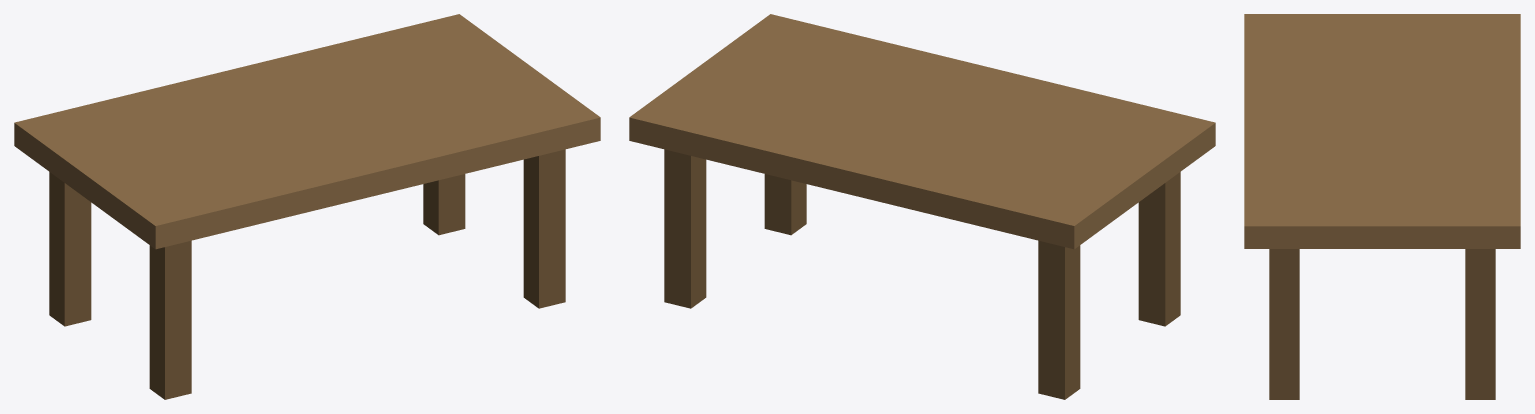
The model's file is teatable.glb.
3 views of the same model, side by side, from view 1: azimuth 30°, elevation 25°; view 2: azimuth 150°, elevation 25°; view 3: azimuth 270°, elevation 25° (orthographic). The views are drawn at different scales.
Parts seen in each view (by area): view 1: teatable; view 2: teatable; view 3: teatable.
Boxes of the visible parts, left/top/right/bottom form: teatable: left=14, top=14, right=600, bottom=399; teatable: left=629, top=14, right=1215, bottom=399; teatable: left=1244, top=14, right=1520, bottom=399.
Bounding box in the file's own units: 1 × 0.405 × 0.55.
